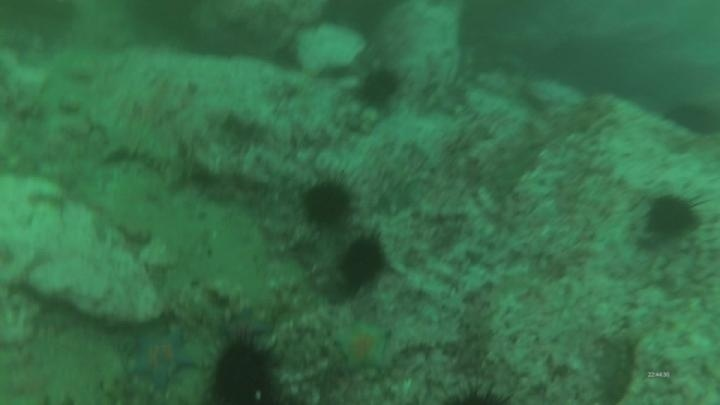echinus: (206, 336, 285, 405), (299, 176, 356, 230), (337, 233, 388, 291), (644, 191, 702, 241), (319, 1, 399, 37), (432, 374, 515, 405), (664, 99, 719, 138), (355, 66, 402, 110)
holothurian: (290, 231, 349, 301)
starfish: (126, 326, 198, 392), (332, 317, 394, 376), (219, 306, 274, 344)
